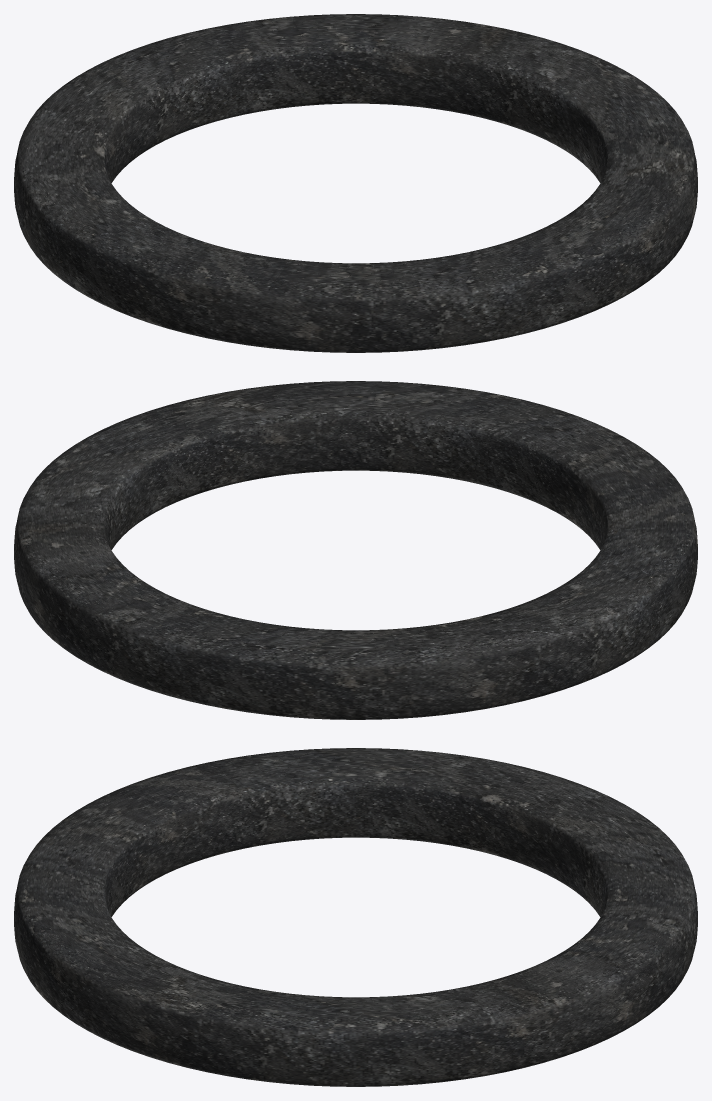
Rendered from yinsh-ring-black.glb.
3 views of the same model, one above another, from view 1: azimuth 30°, elevation 25°; view 2: azimuth 150°, elevation 25°; view 3: azimuth 270°, elevation 25° (orthographic).
Visible parts, largest first — view 1: yinsh-ring-black; view 2: yinsh-ring-black; view 3: yinsh-ring-black.
Part boxes in pixels (left/top/right/bottom): yinsh-ring-black: left=14, top=14, right=697, bottom=352; yinsh-ring-black: left=14, top=381, right=697, bottom=719; yinsh-ring-black: left=14, top=748, right=697, bottom=1086.
Bounding box in the file's own units: 0.032 × 0.00306 × 0.032.
1 material, 1 textured.
